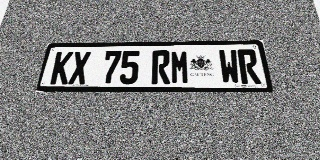5: (119, 51, 140, 84)
7: (100, 51, 122, 84)
K: (50, 51, 74, 84)
M: (171, 50, 190, 84)
R: (237, 49, 261, 84), (151, 50, 170, 84)
W: (218, 50, 241, 84)
X: (68, 51, 91, 84)
